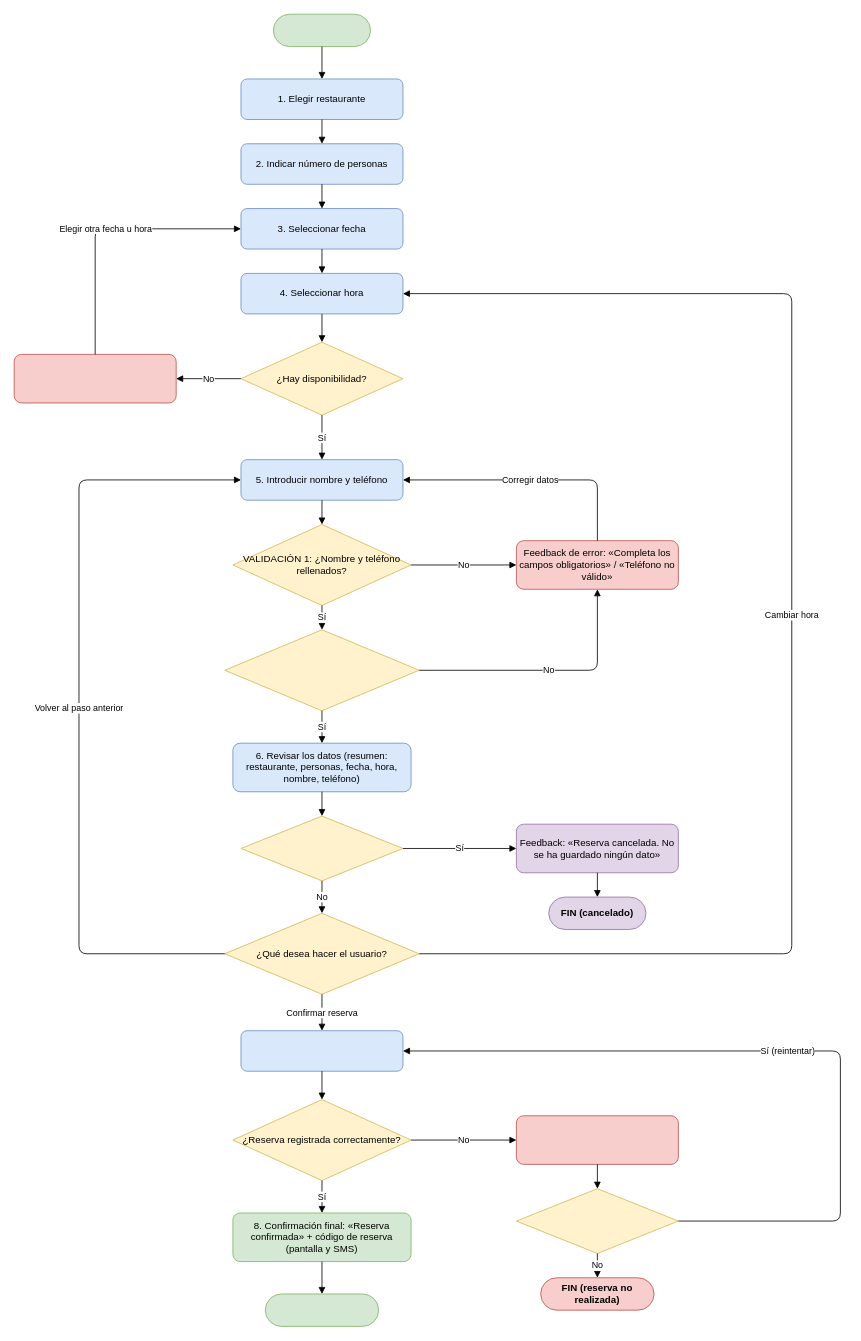
Image size: 861x1341. Some labels were removed from this diagram. The box of each missing label's shape, as (x1, y1, x2, y2) in pixels:
7. Confirmar: enviar reserva al sistema: (240, 1030, 403, 1071)
ERROR: «No se pudo completar la reserva. Inténtalo de nuevo»: (516, 1115, 678, 1164)
Feedback: «No hay mesas disponibles. Elige otra fecha u hora»: (13, 354, 176, 403)
FIN (reserva completada): (264, 1293, 379, 1326)
INICIO: (273, 13, 371, 47)
VALIDACIÓN 2: ¿Teléfono con formato correcto (9 dígitos)?: (224, 629, 419, 711)
¿Cancelar la reserva?: (240, 815, 403, 881)
¿Reintentar?: (516, 1188, 678, 1253)
